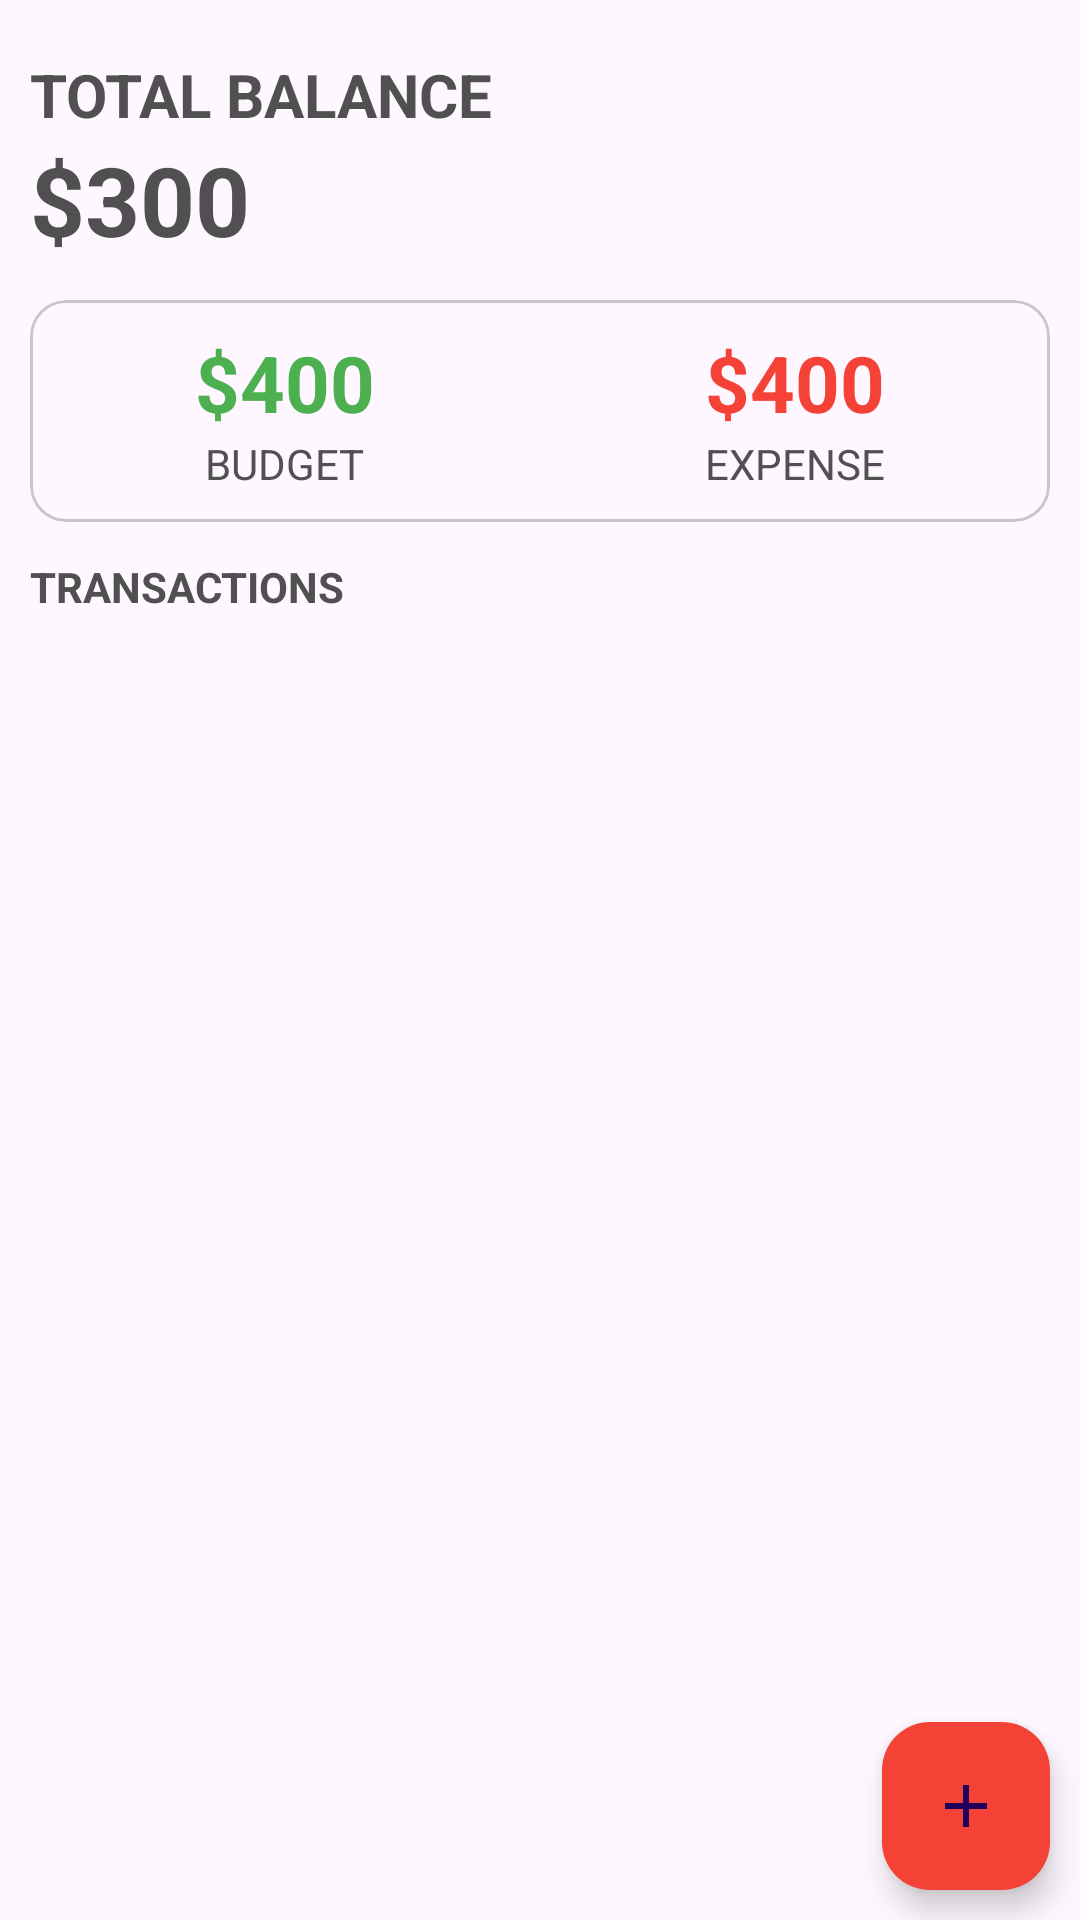

Named icons in this screenshot (1080*1920) and their centers, (x,y):
Add transaction: (966,1806)
